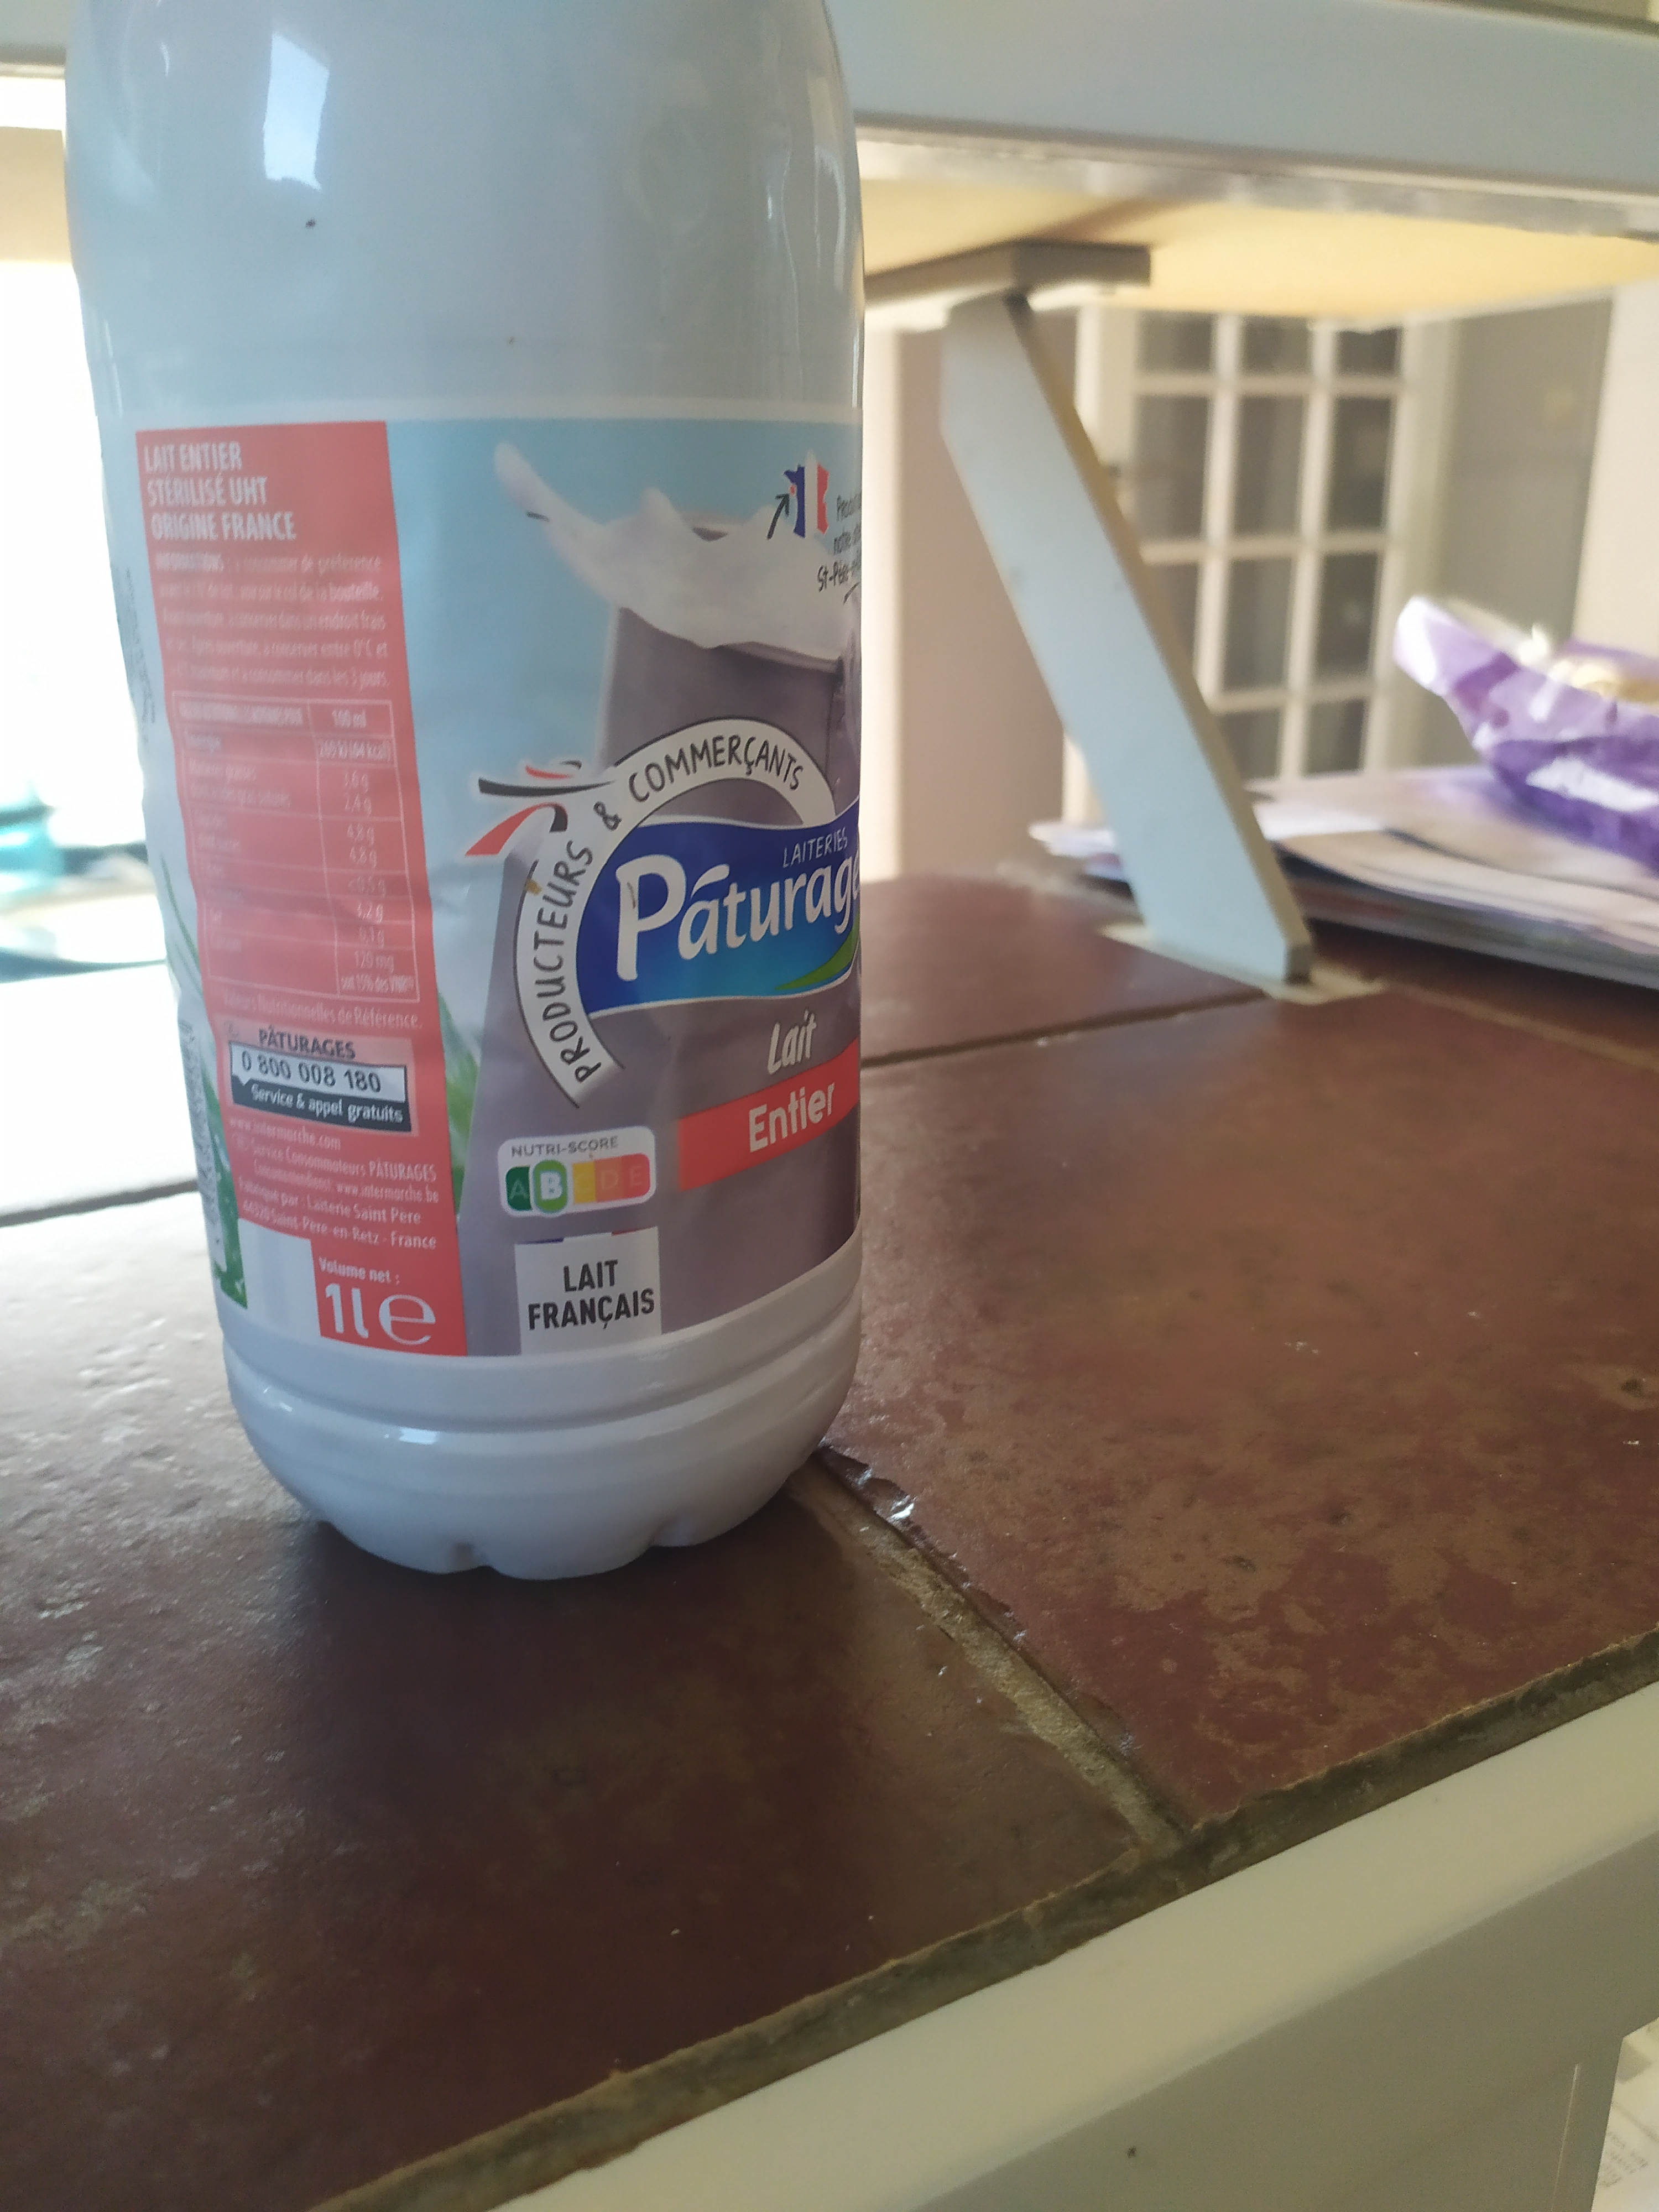bottle: (44, 0, 871, 1585)
